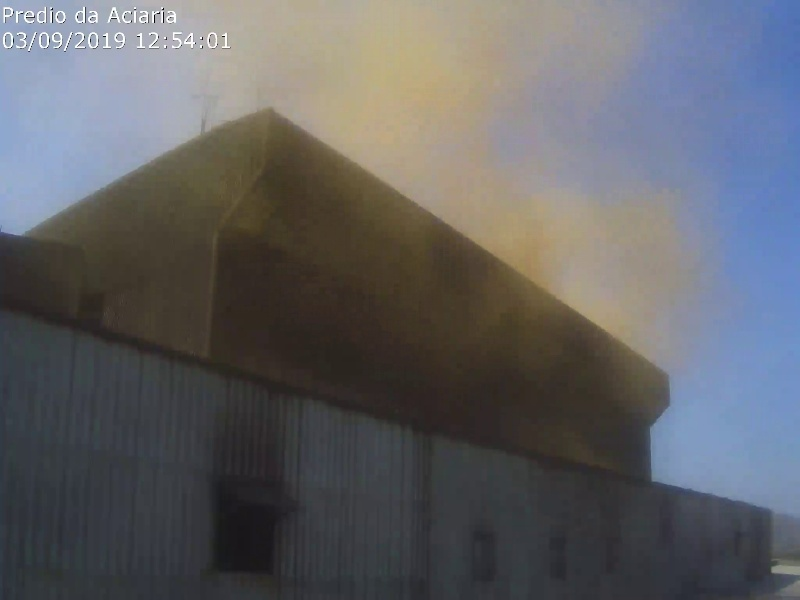pessimo: (205, 8, 740, 348)
